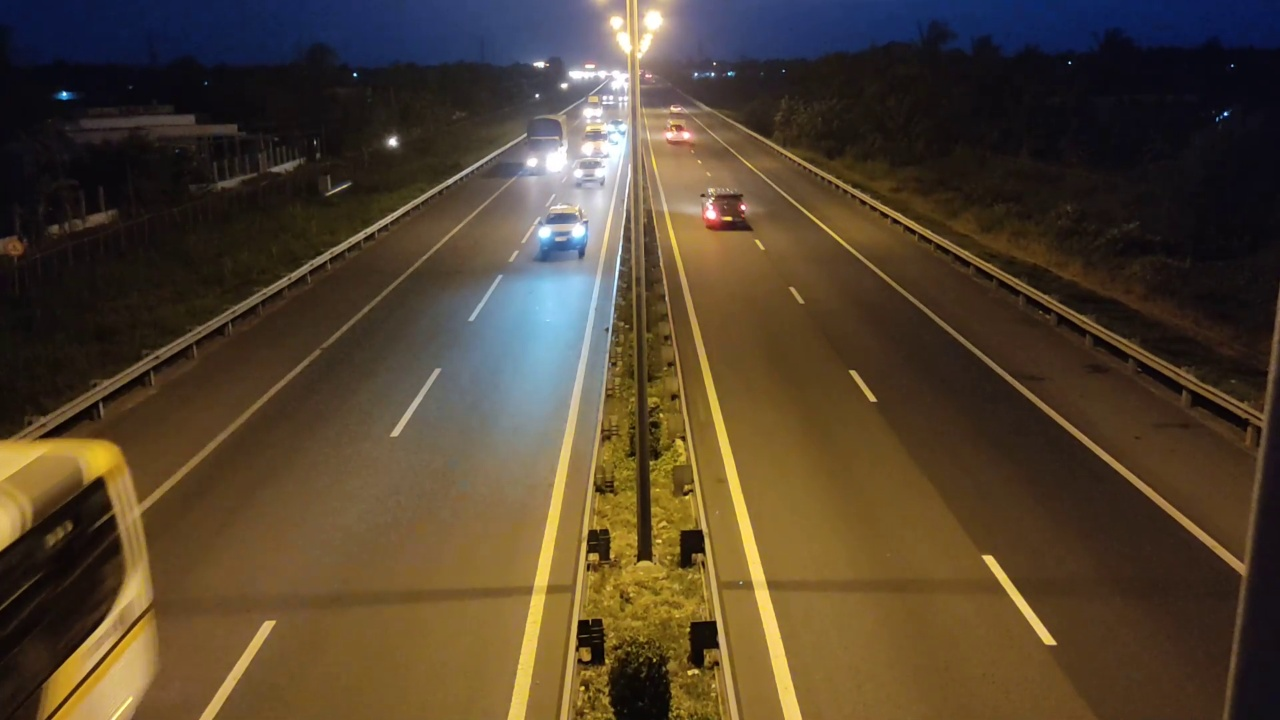car: (535, 203, 589, 261), (701, 187, 751, 231), (572, 158, 608, 188), (663, 121, 695, 148)
